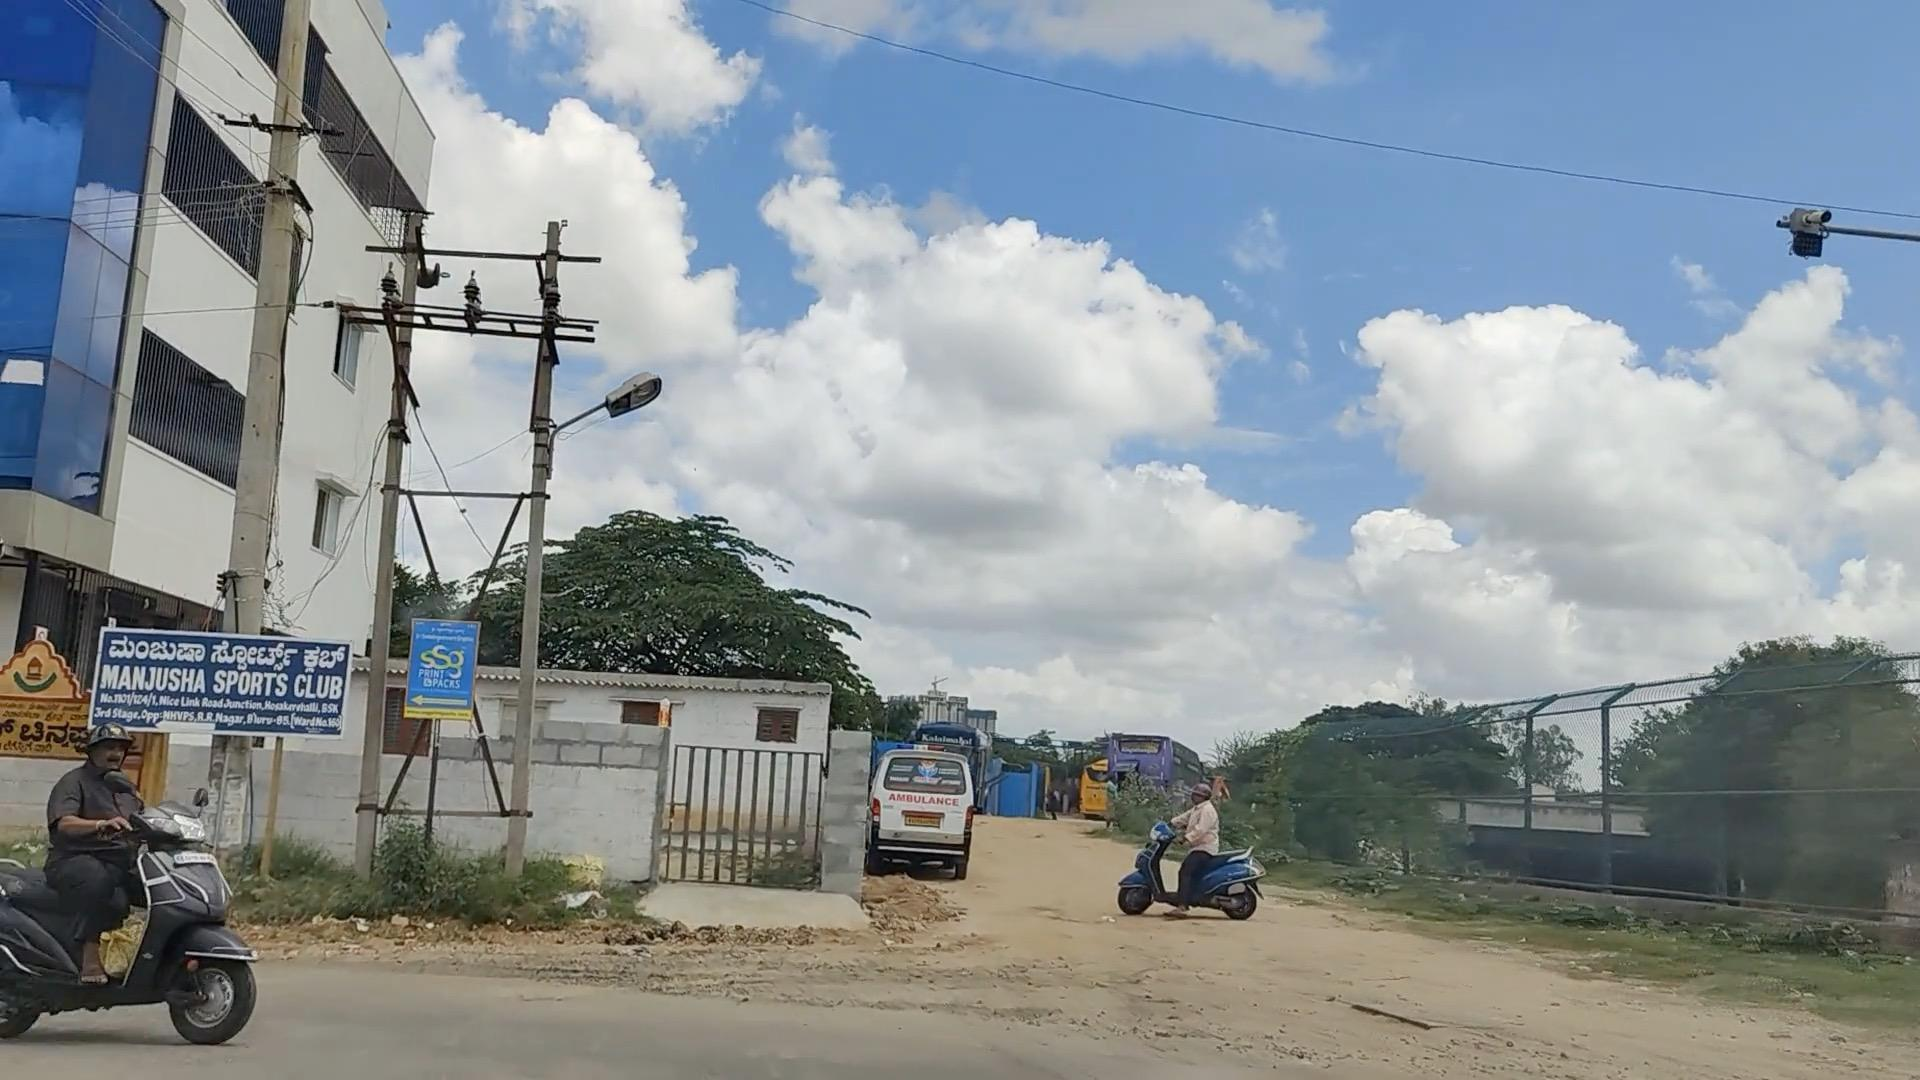LMV: (17, 735, 229, 1040), (1122, 798, 1250, 910), (885, 742, 982, 876)
